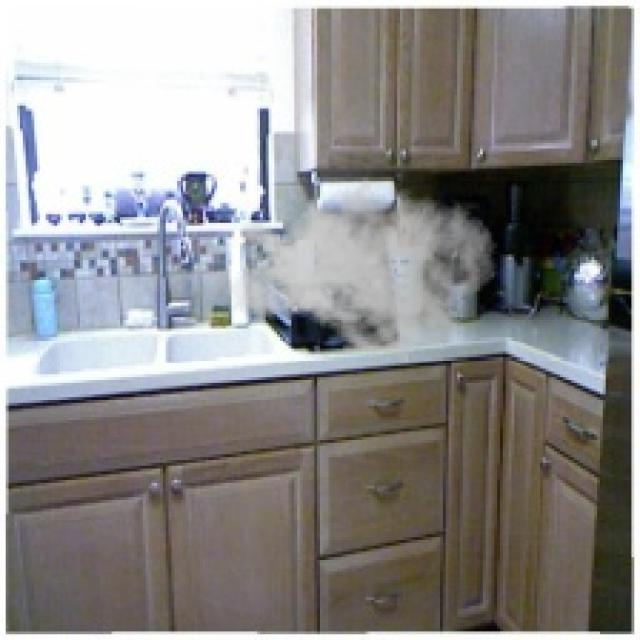smoke: (226, 165, 497, 368)
